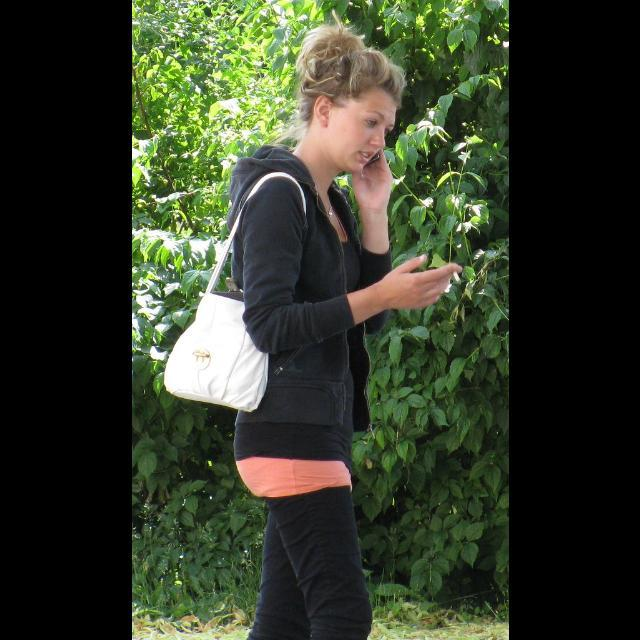rokok: (453, 270, 462, 284)
